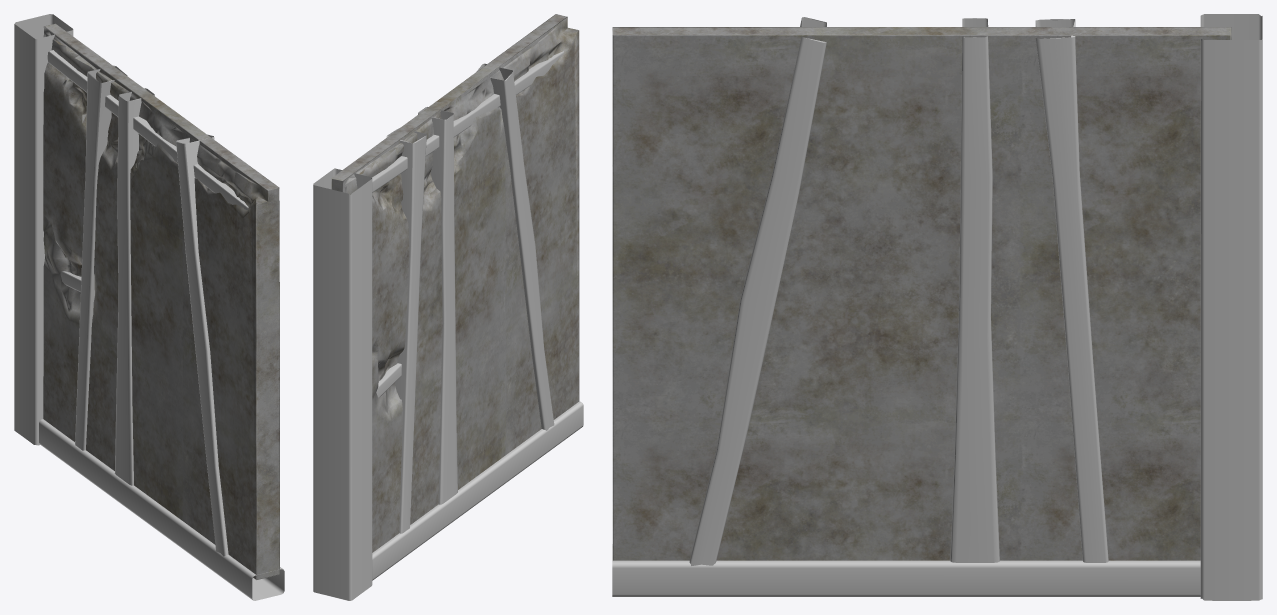
The model's file is SM_Wall33.fbx.
3 views of the same model, side by side, from view 1: azimuth 30°, elevation 25°; view 2: azimuth 150°, elevation 25°; view 3: azimuth 270°, elevation 25° (orthographic). The views are drawn at different scales.
Visible parts, largest first — view 1: SM_Wall33_LOD0; view 2: SM_Wall33_LOD0; view 3: SM_Wall33_LOD0.
Part boxes in pixels (<box>): SM_Wall33_LOD0: <box>14,14,284,600</box>; SM_Wall33_LOD0: <box>313,14,583,600</box>; SM_Wall33_LOD0: <box>612,14,1262,600</box>.
Size of the model in its own units: 30 by 315 by 301.
